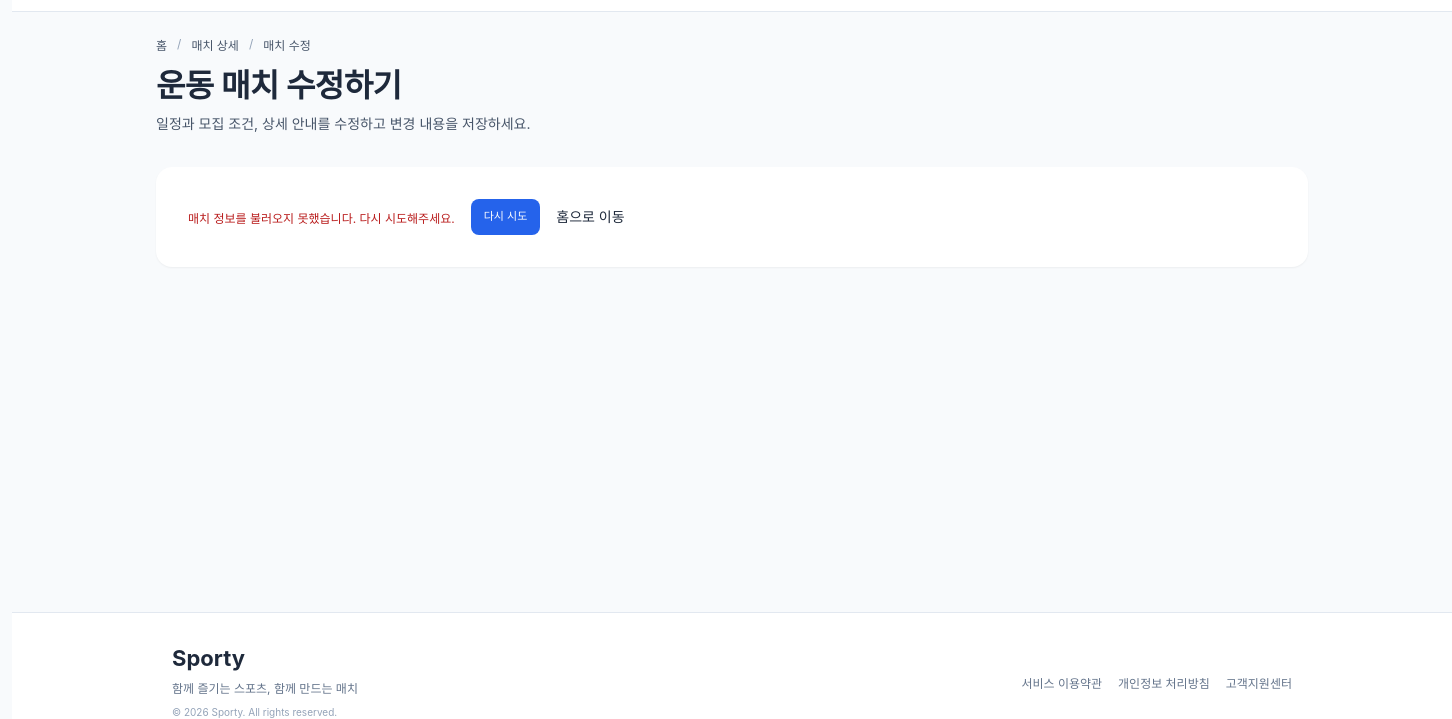
Test case: retries failed lookup
Click the button "다시 시도" at [506, 217], box [471, 199, 540, 235]
(page scrolled)
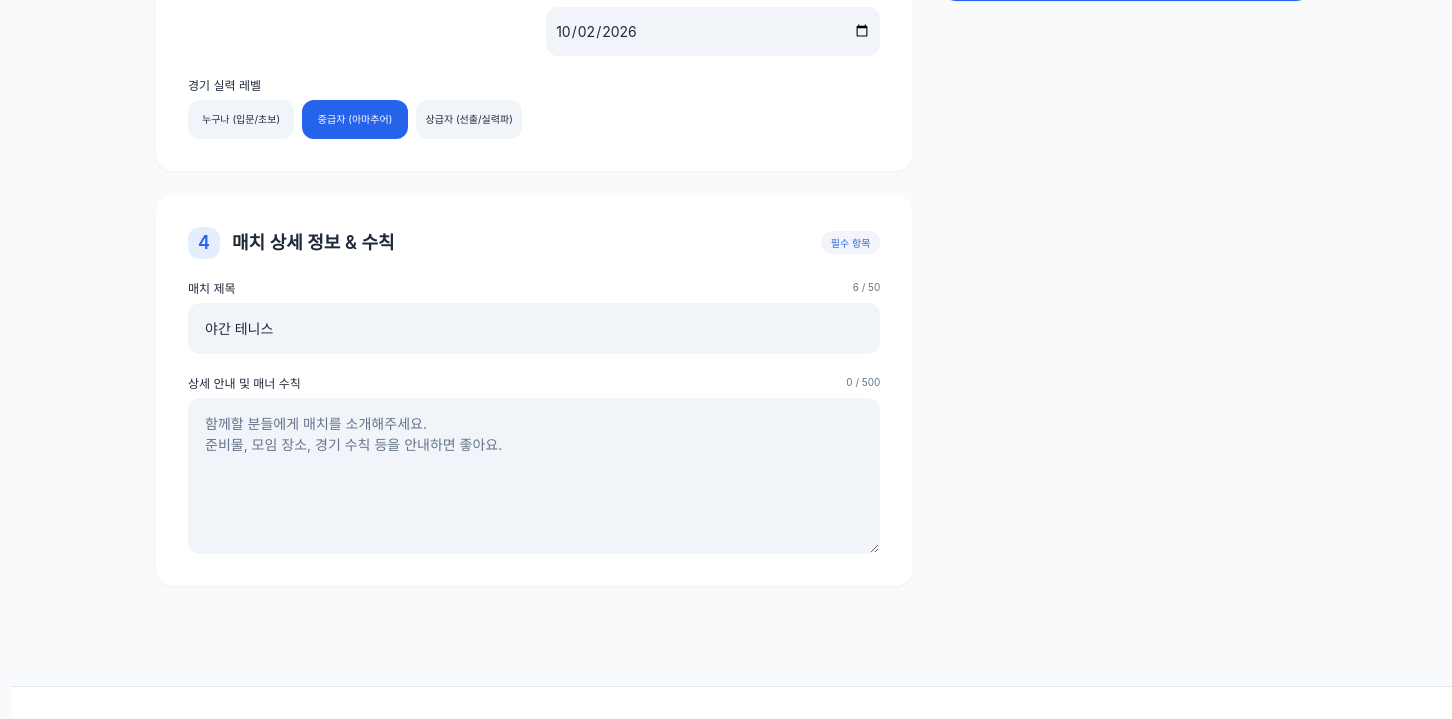
Result: the field labelled "매치 제목" holds "야간 테니스" at [188, 302, 880, 354]
